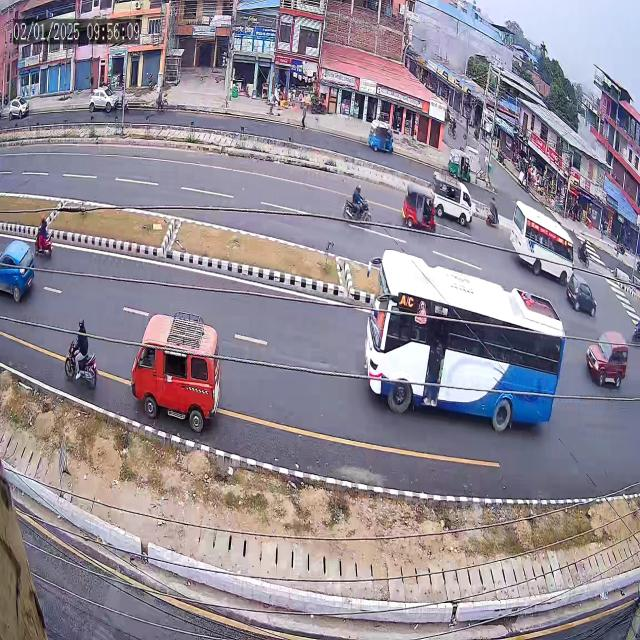auto: (399, 180, 439, 237), (367, 112, 399, 162)
bus: (356, 236, 567, 458), (509, 194, 576, 289)
car: (0, 238, 40, 306), (563, 269, 600, 322)
motorcycle: (59, 310, 104, 395), (341, 176, 375, 233), (34, 212, 64, 254), (484, 190, 504, 230)
van: (126, 296, 234, 446), (428, 170, 479, 230)
